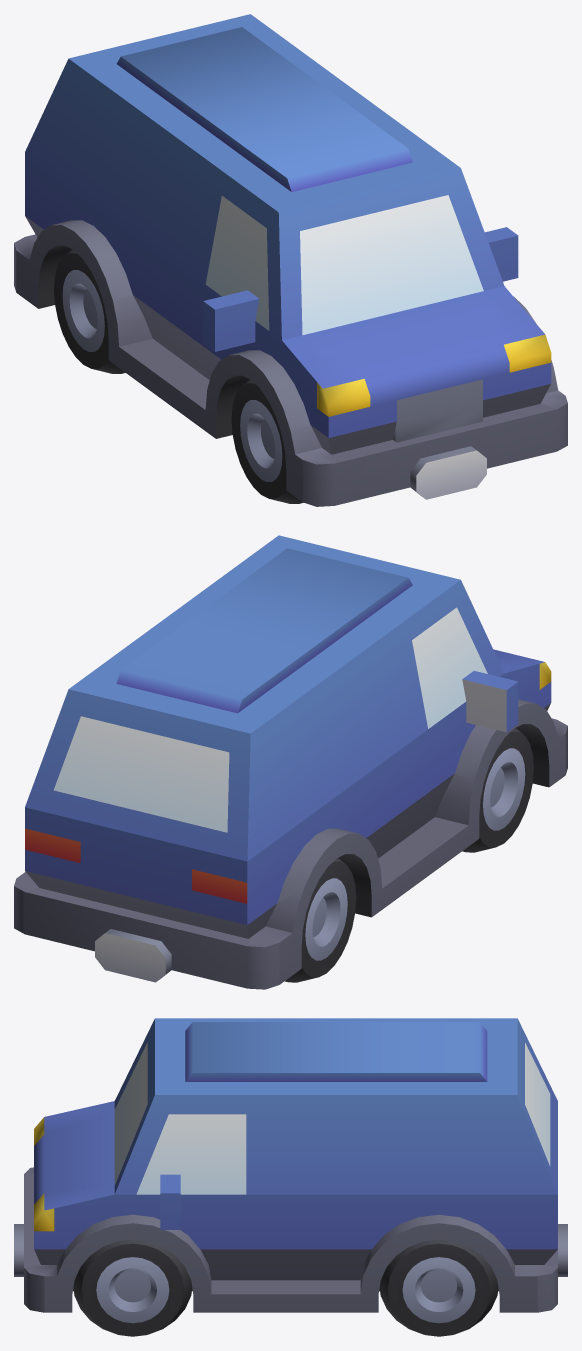
Rendered from car-van.obj.
The picture shows the model from 3 angles, top to bottom: view 1: azimuth 30°, elevation 25°; view 2: azimuth 150°, elevation 25°; view 3: azimuth 270°, elevation 25°; orthographic projection. The views are drawn at different scales.
Visible parts, largest first — view 1: body, wheel-front-right, wheel-back-right; view 2: body, wheel-back-right, wheel-front-right; view 3: body, wheel-front-left, wheel-back-left.
Boxes of the visible parts, box(x1,y1,x2,y2) form: body: box(14, 14, 567, 506); wheel-front-right: box(231, 379, 303, 503); wheel-back-right: box(54, 249, 125, 373); body: box(14, 535, 567, 989); wheel-back-right: box(285, 858, 356, 982); wheel-front-right: box(462, 728, 533, 852); body: box(14, 1018, 567, 1312); wheel-front-left: box(73, 1239, 192, 1336); wheel-back-left: box(379, 1239, 498, 1336).
Bounding box in the file's own units: 1.5 × 1.35 × 2.75.
